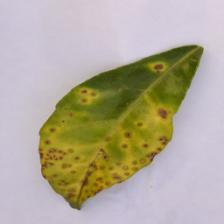canker: (23, 81, 182, 217)
